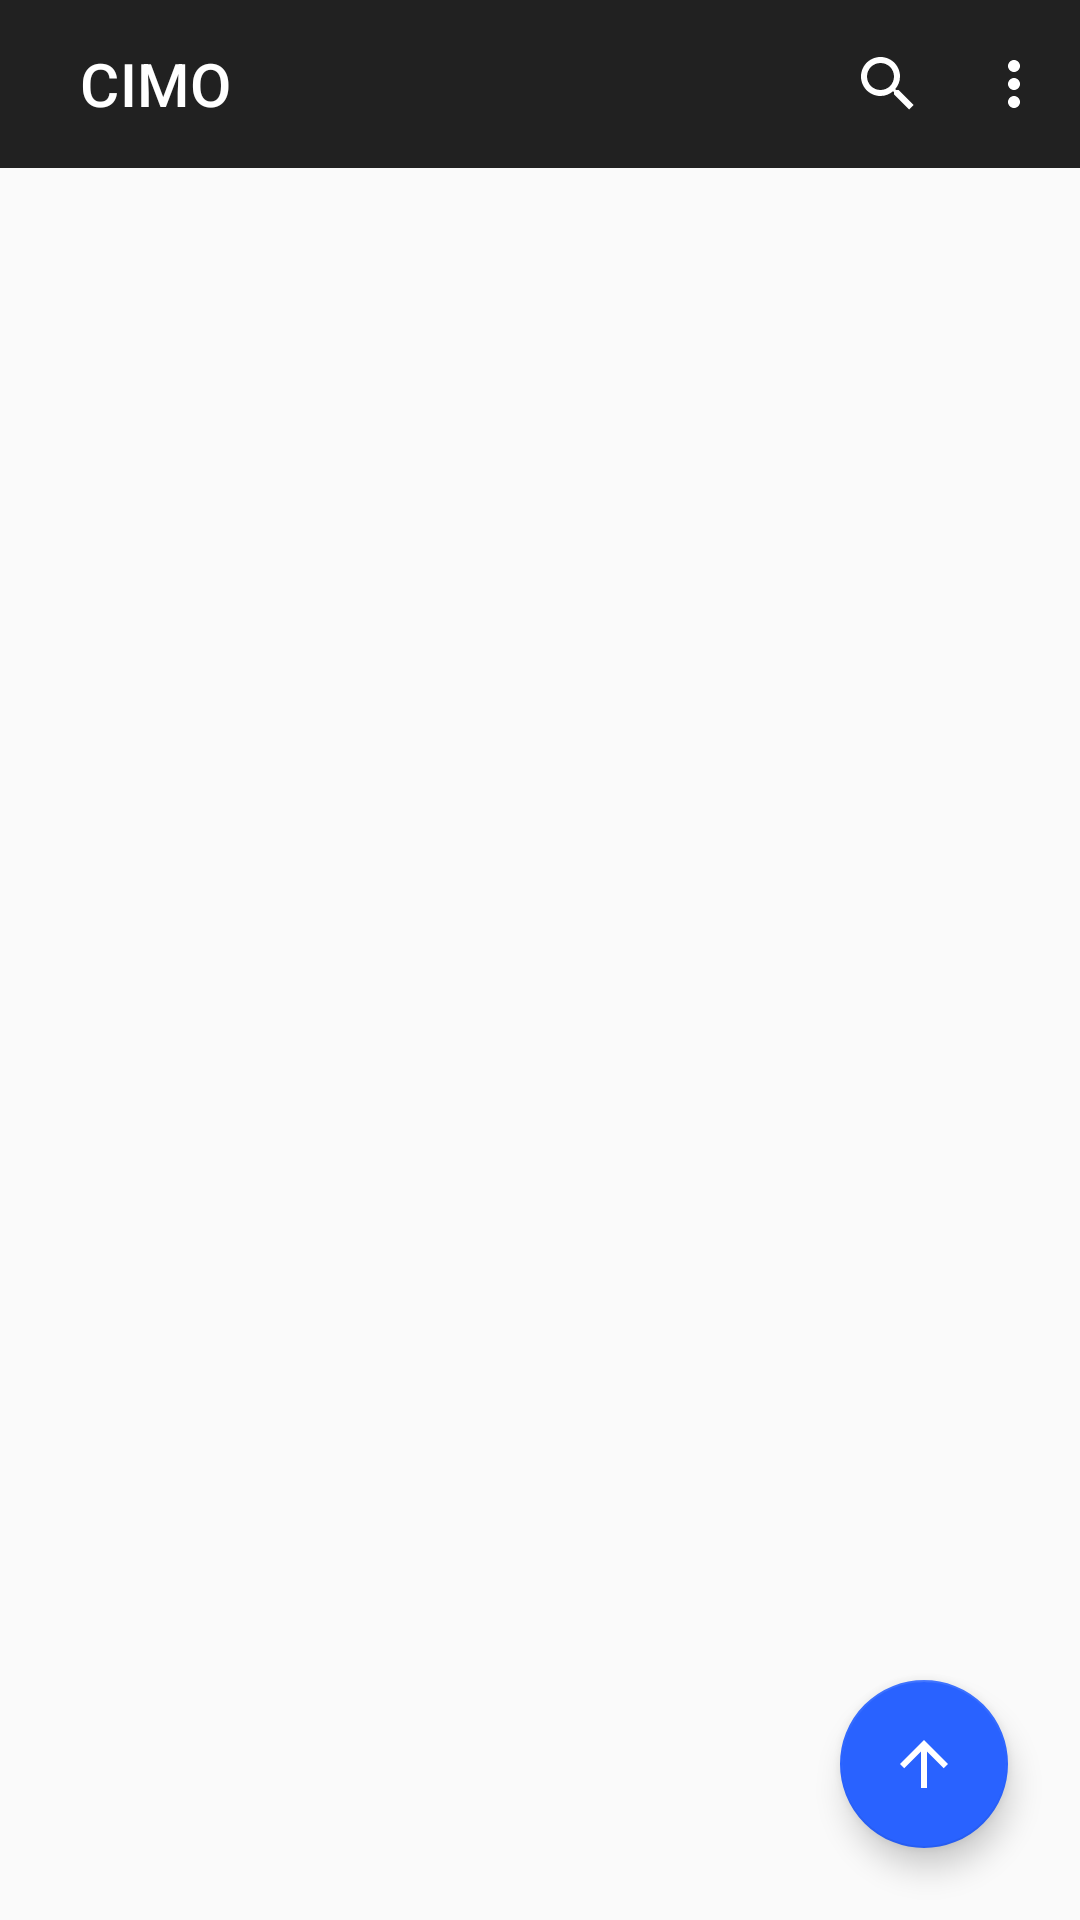

Locate icon controls on the screen. Image size 1080 × 1920, boxes as rect(x1, y1, x2, y2).
arrow upward: rect(840, 1680, 1008, 1848)
